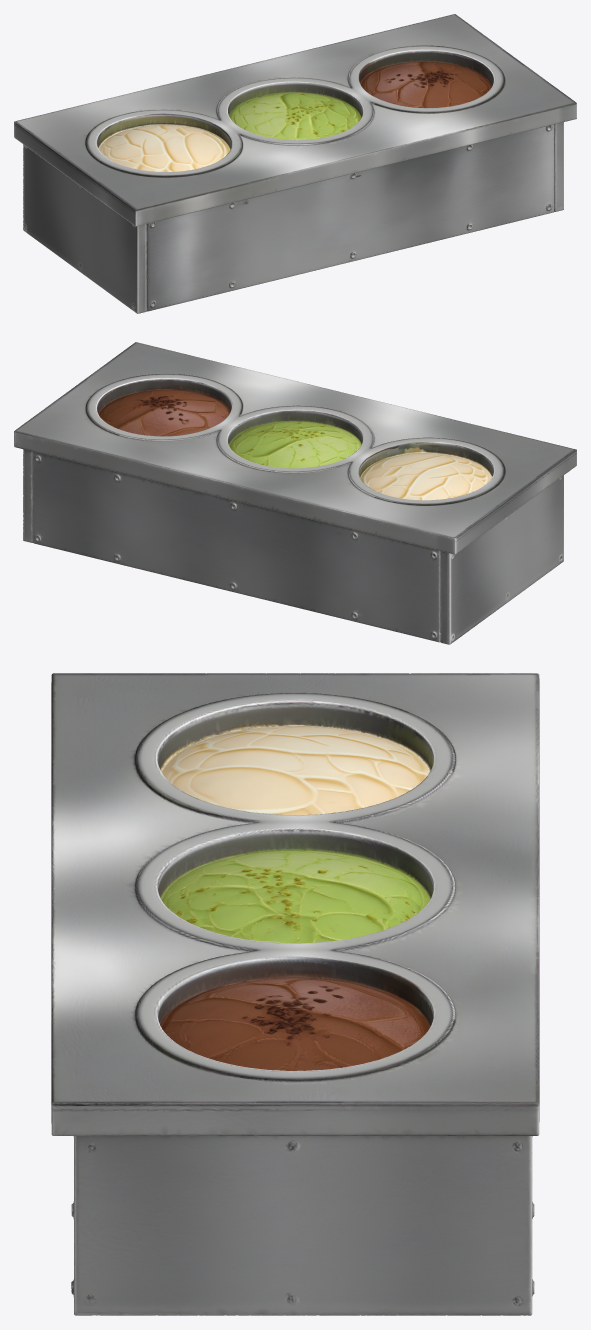
Rendered from Meshy_AI_Triple_Flavor_Gelato__0612054029_texture.fbx.
The picture shows the model from 3 angles, top to bottom: view 1: azimuth 30°, elevation 25°; view 2: azimuth 150°, elevation 25°; view 3: azimuth 270°, elevation 25°; orthographic projection. The views are drawn at different scales.
Parts seen in each view (by area): view 1: Mesh_0; view 2: Mesh_0; view 3: Mesh_0.
Part boxes in pixels (x1=…): Mesh_0: x1=14, y1=14, x2=576, y2=313; Mesh_0: x1=14, y1=342, x2=576, y2=644; Mesh_0: x1=51, y1=673, x2=539, y2=1315.
Bounding box in the file's own units: 190 × 46.56 × 90.9.
1 material, 1 textured.
